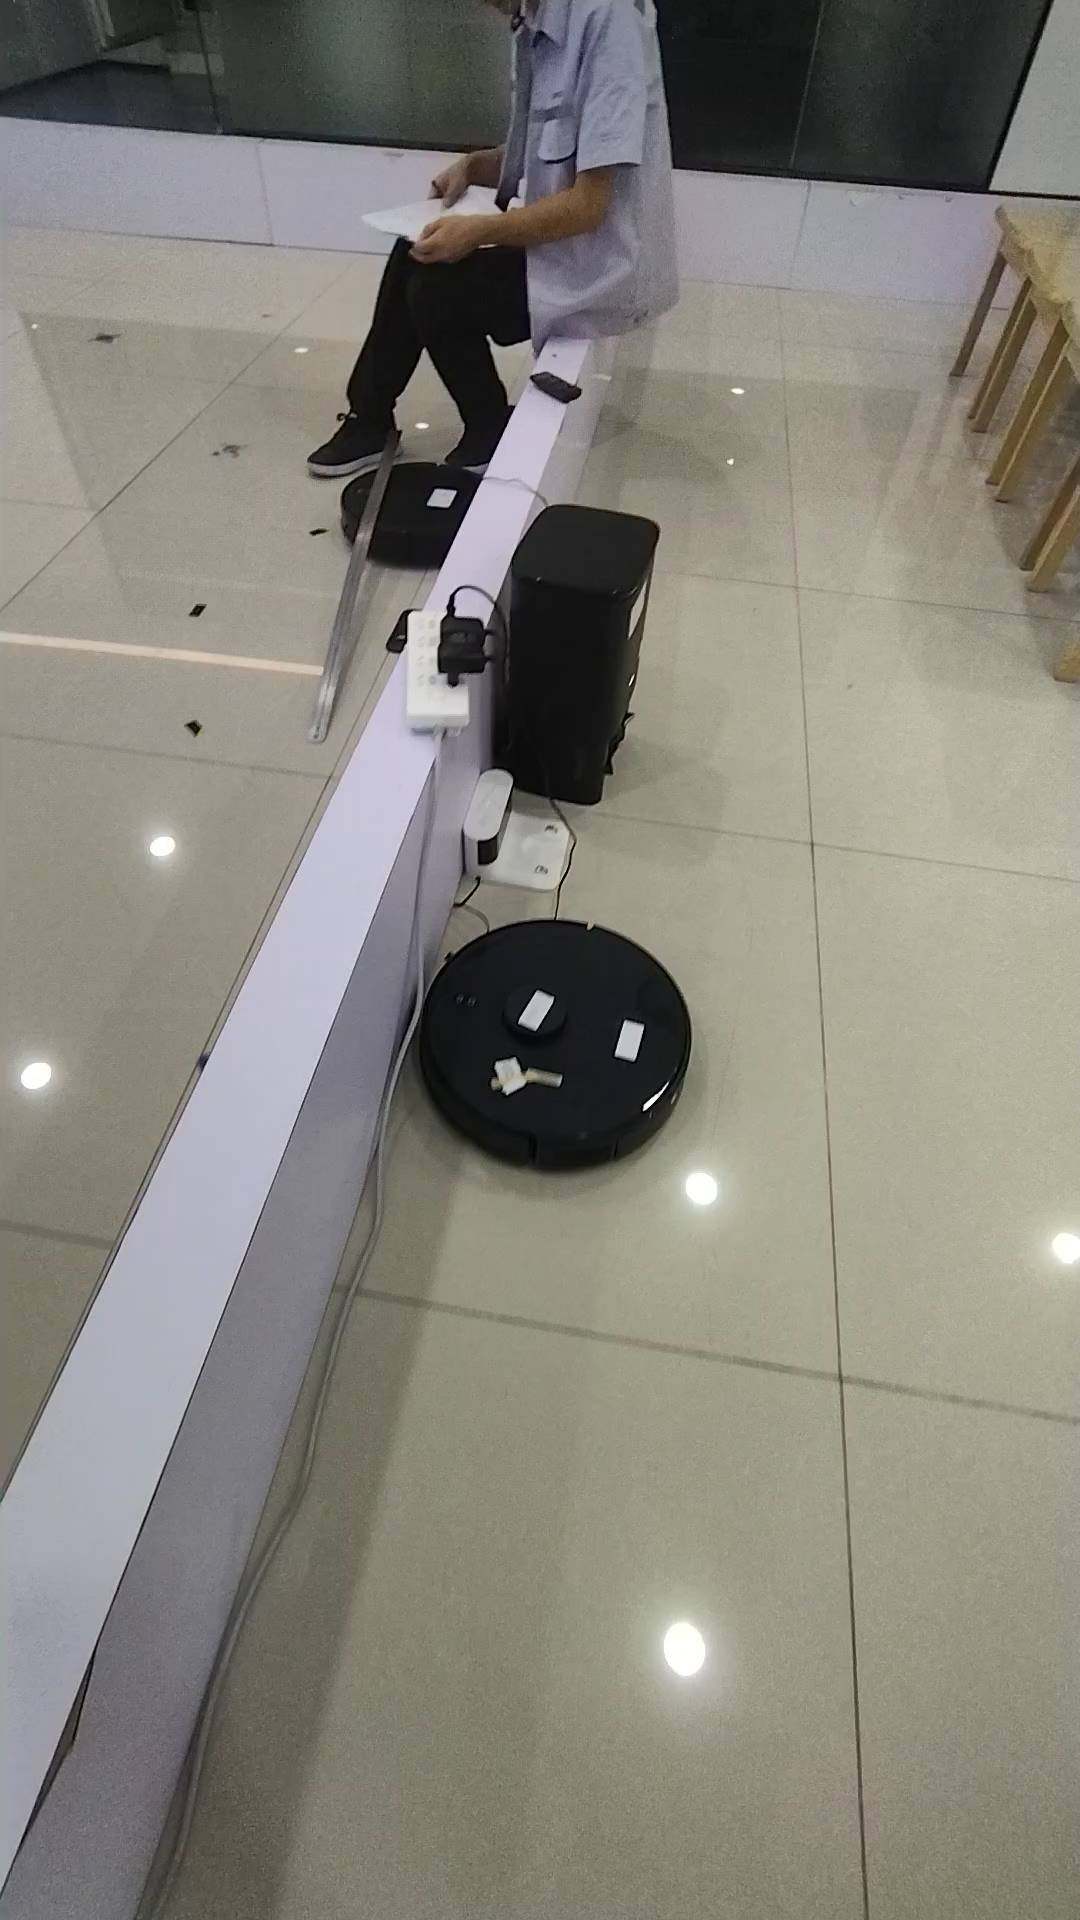dust collecting barrel: (502, 502, 659, 804)
recharge seat: (462, 769, 576, 895)
